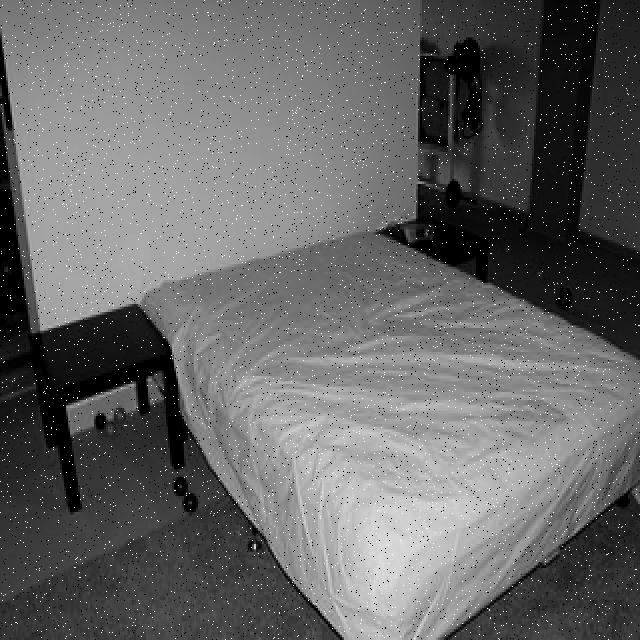bed: (144, 222, 639, 640)
